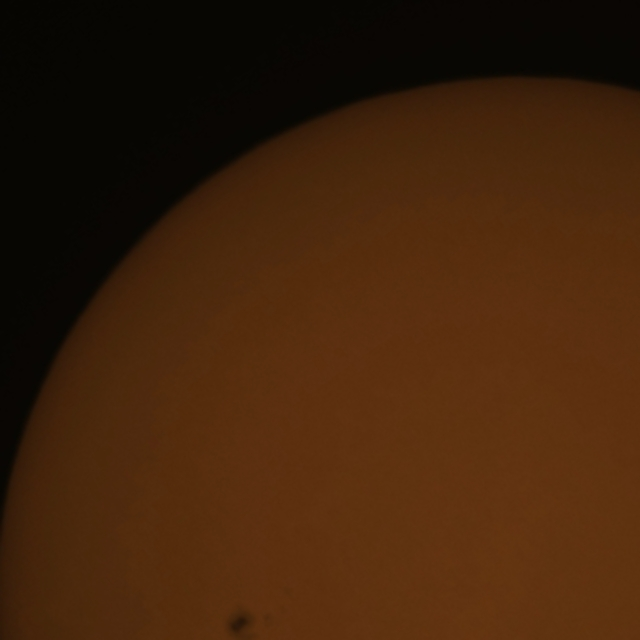sunspot: (227, 610, 275, 640)
